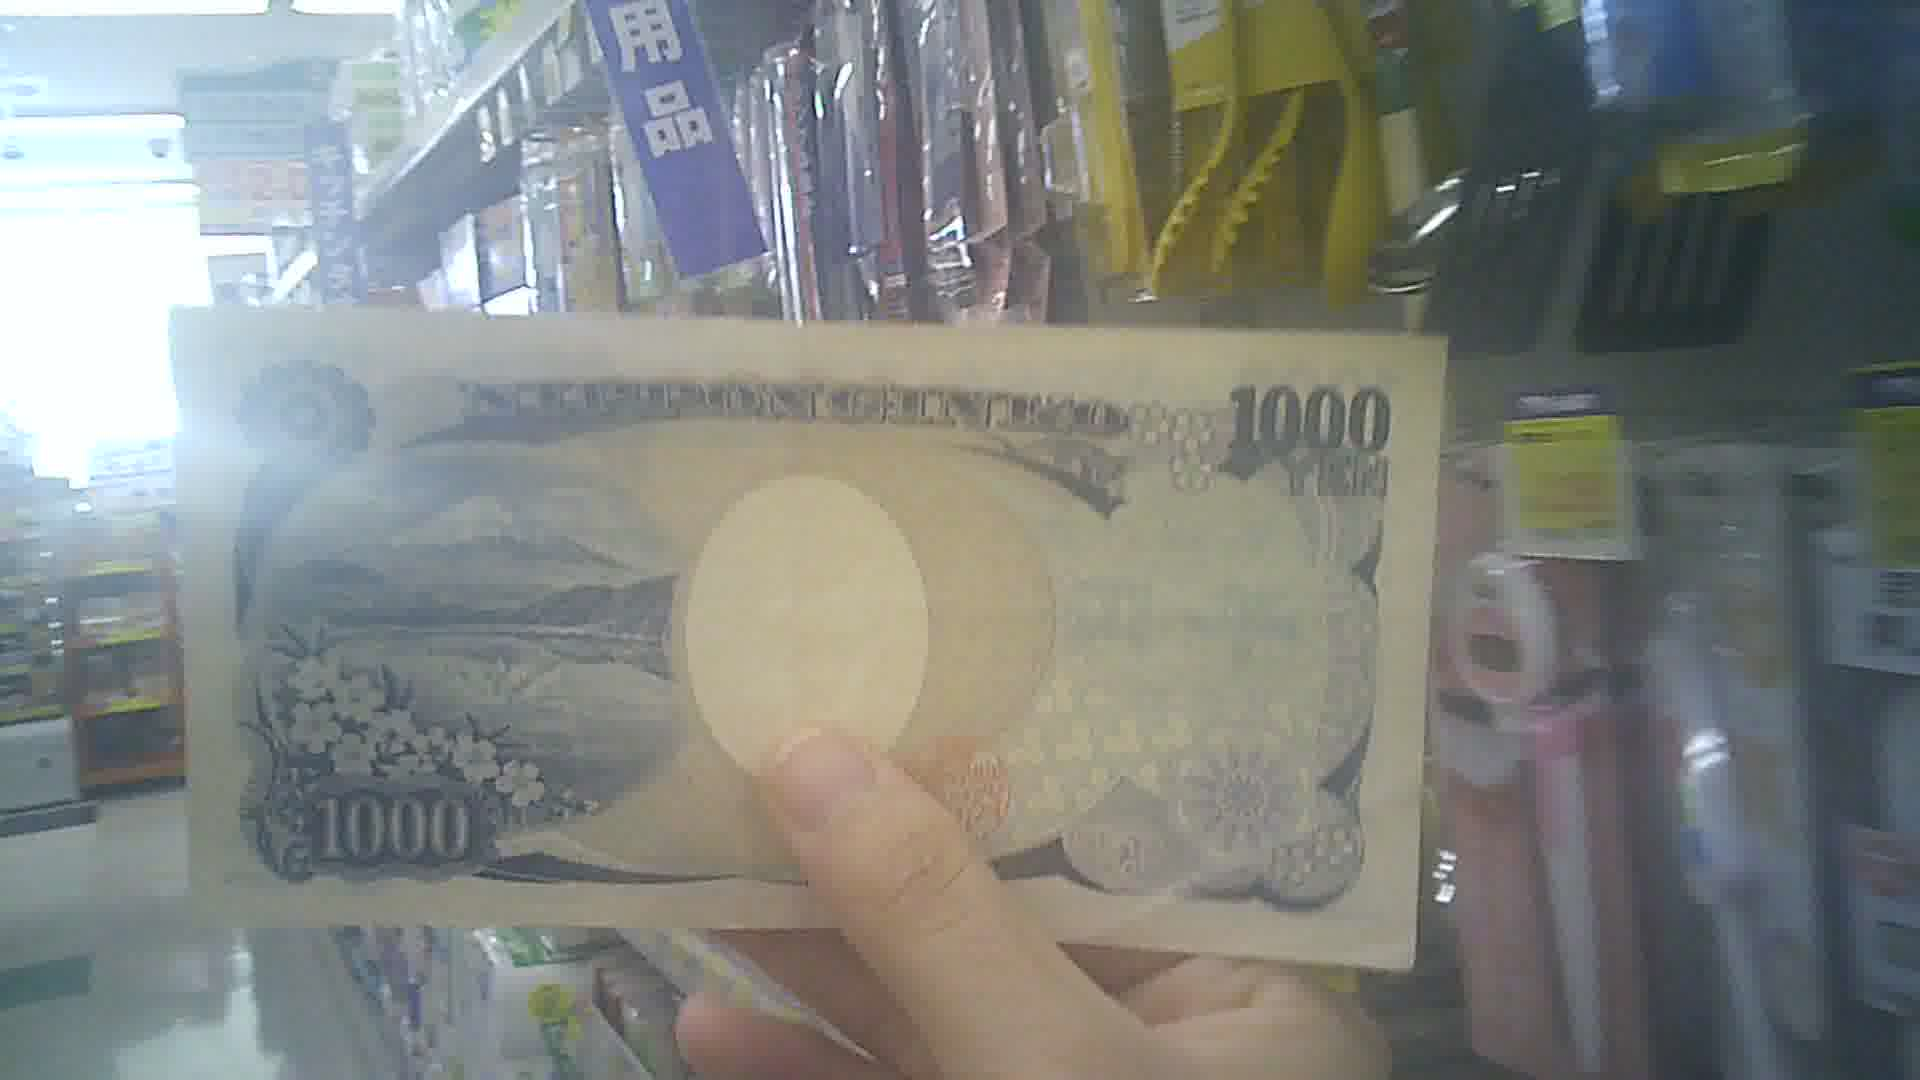1,000 Yen: (171, 293, 1449, 977)
